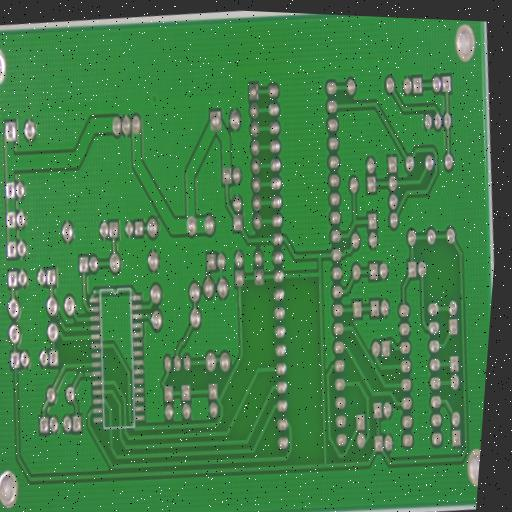open_circuit: (55, 314, 62, 324), (205, 268, 211, 278), (81, 370, 86, 379)
